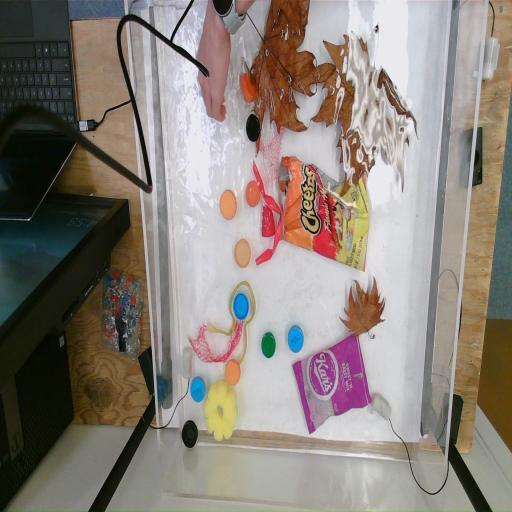Bottle Cap: (218, 188, 238, 221), (231, 292, 250, 322), (234, 238, 252, 269), (240, 70, 256, 102), (287, 325, 304, 354), (245, 180, 261, 208), (260, 331, 276, 359), (190, 376, 206, 404), (182, 420, 198, 448), (246, 113, 260, 144), (225, 359, 241, 386)
Cone Cap: (260, 203, 277, 237)
Leaf: (314, 32, 416, 194), (248, 0, 316, 133), (339, 277, 387, 342)
Netting: (188, 318, 244, 362), (256, 140, 284, 186)
Plastic Bag: (280, 154, 371, 272), (292, 331, 374, 436)
Plastic Strand: (203, 280, 257, 368), (252, 165, 284, 265)
Sponge: (207, 383, 235, 441)
